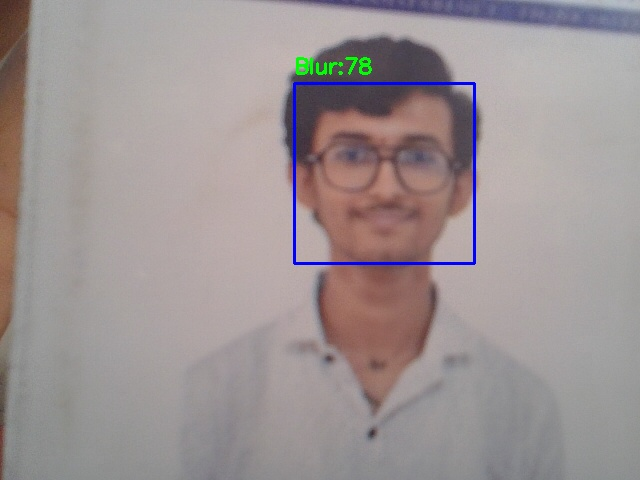fake: (294, 83, 474, 263)
